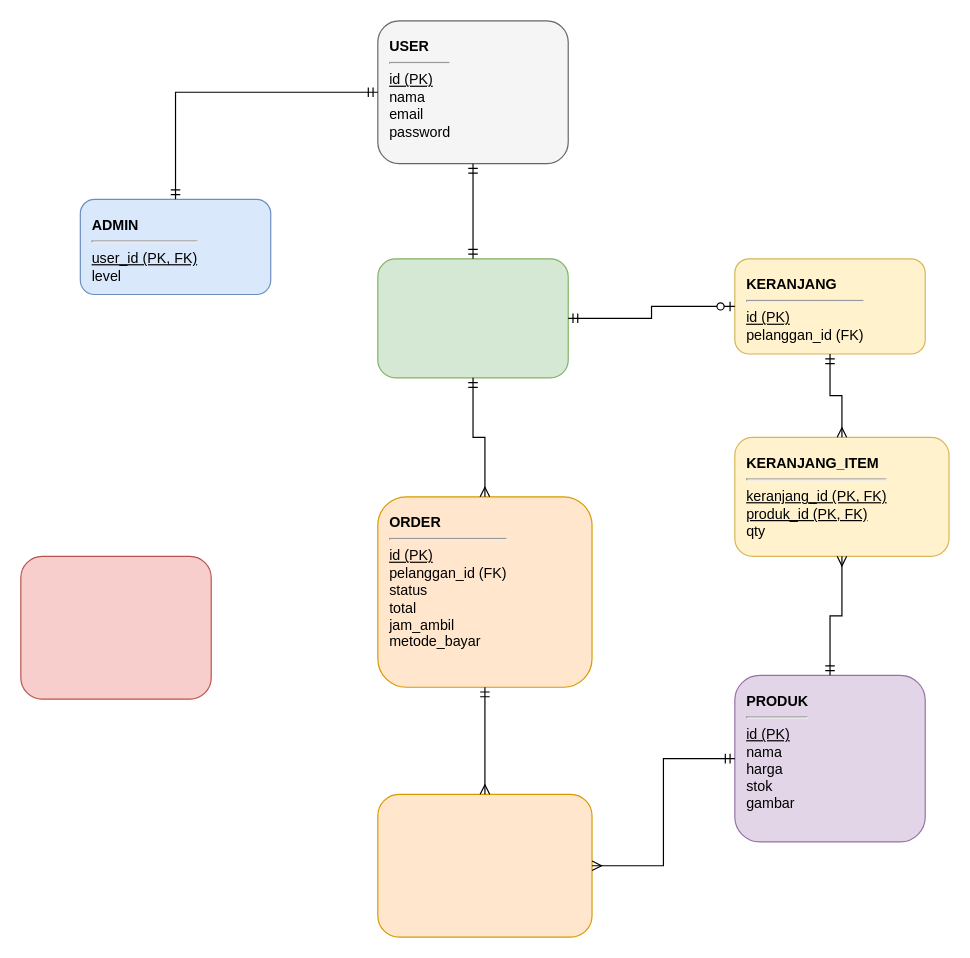
The diagram is 970 pixels wide and 958 high, and some of its shapes have lost their labels. Here are the shapes that lost their labels. From the top down, the box of each, then its label:
(377, 258, 568, 378): PELANGGAN user_id (PK, FK) no_hp tgl_daftar
(20, 555, 211, 699): JADWAL_AMBIL id (PK) jam_mulai jam_selesai is_aktif
(377, 793, 592, 937): ITEM_ORDER order_id (PK, FK) produk_id (PK, FK) qty harga_satuan
